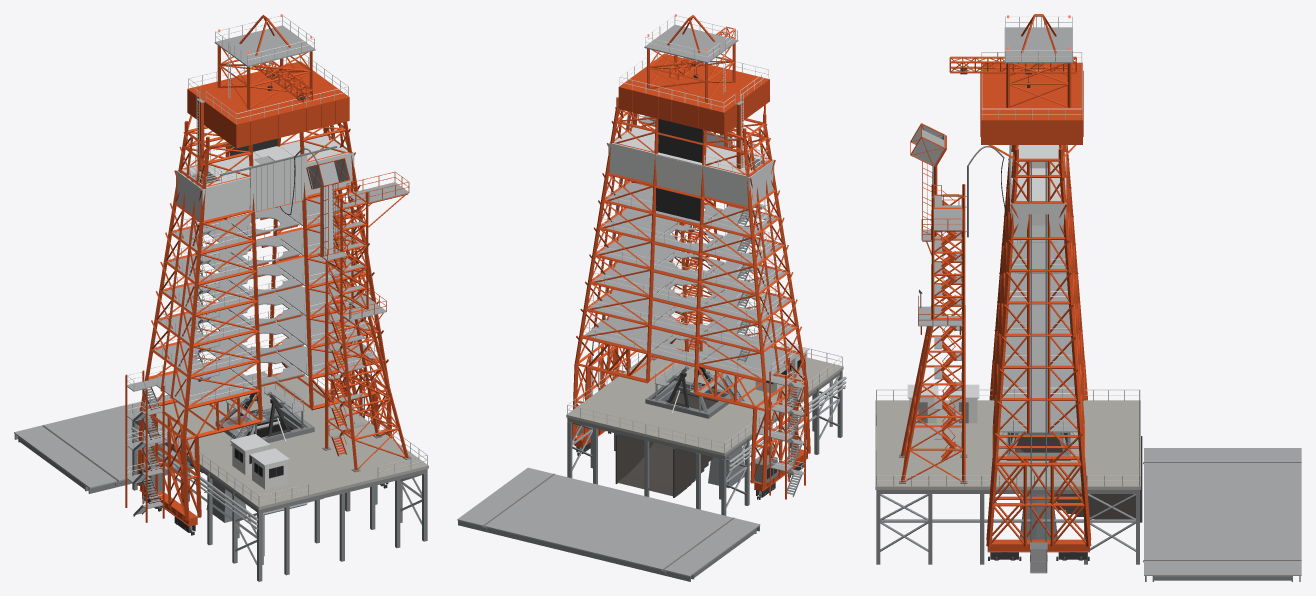
File: pad.lod1.glb
3 views of the same model, side by side, from view 1: azimuth 30°, elevation 25°; view 2: azimuth 150°, elevation 25°; view 3: azimuth 270°, elevation 25° (orthographic). The views are drawn at different scales.
Visible parts, largest first — view 1: ServiceStructure_Tower_Orange, ServiceStructure_Tower_Deck, LaunchStand_Concrete, ServiceStructure_Tower_OrangeHead, EgressTower_Orange, TransferTable_Deck, LaunchStand_GreyFrame, ServiceStructure_Tower_WhiteRails, ServiceStructure_Tower_AluminiumWhiteroom, ServiceStructure_Tower_GreyStair, EgressTower_OrangeStair, EgressTower_DeckPlatforms (+15 smaller); view 2: ServiceStructure_Tower_Orange, ServiceStructure_Tower_Deck, TransferTable_Deck, LaunchStand_Concrete, ServiceStructure_Tower_OrangeHead, ServiceStructure_Tower_WhiteRails, ServiceStructure_Tower_AluminiumWhiteroom, LaunchStand_GreyFrame, ServiceStructure_Tower_BlackScreen, FlameDeflector_ScorchedWalls, FlameDeflector_Scorched, ServiceStructure_Tower_GreyStair (+10 smaller); view 3: ServiceStructure_Tower_Orange, TransferTable_Deck, LaunchStand_Concrete, ServiceStructure_Tower_Deck, ServiceStructure_Tower_OrangeHead, EgressTower_Orange, LaunchStand_GreyFrame, ServiceStructure_Tower_AluminiumWhiteroom, FlameDeflector_ScorchedWalls, ServiceStructure_Tower_WhiteRails, EgressTower_OrangeStair, EgressTower_DeckPlatforms (+13 smaller).
Boxes of the visible parts, bbox=[...] form: ServiceStructure_Tower_Orange: bbox=[125, 15, 392, 522]; ServiceStructure_Tower_Deck: bbox=[126, 25, 378, 508]; LaunchStand_Concrete: bbox=[137, 375, 428, 509]; ServiceStructure_Tower_OrangeHead: bbox=[187, 61, 349, 148]; EgressTower_Orange: bbox=[317, 181, 408, 470]; TransferTable_Deck: bbox=[14, 372, 267, 488]; LaunchStand_GreyFrame: bbox=[132, 420, 427, 581]; ServiceStructure_Tower_WhiteRails: bbox=[148, 15, 377, 402]; ServiceStructure_Tower_AluminiumWhiteroom: bbox=[176, 135, 354, 220]; ServiceStructure_Tower_GreyStair: bbox=[133, 168, 215, 516]; EgressTower_OrangeStair: bbox=[331, 194, 354, 456]; EgressTower_DeckPlatforms: bbox=[322, 182, 409, 320]; ServiceStructure_Tower_Orange: bbox=[572, 15, 810, 499]; ServiceStructure_Tower_Deck: bbox=[584, 24, 804, 475]; TransferTable_Deck: bbox=[457, 467, 760, 576]; LaunchStand_Concrete: bbox=[566, 339, 843, 456]; ServiceStructure_Tower_OrangeHead: bbox=[618, 53, 769, 134]; ServiceStructure_Tower_WhiteRails: bbox=[583, 15, 799, 375]; ServiceStructure_Tower_AluminiumWhiteroom: bbox=[608, 127, 774, 206]; LaunchStand_GreyFrame: bbox=[567, 370, 842, 515]; ServiceStructure_Tower_BlackScreen: bbox=[656, 119, 702, 221]; FlameDeflector_ScorchedWalls: bbox=[615, 391, 717, 497]; FlameDeflector_Scorched: bbox=[617, 392, 716, 496]; ServiceStructure_Tower_GreyStair: bbox=[737, 163, 801, 496]; ServiceStructure_Tower_Orange: bbox=[949, 14, 1091, 546]; TransferTable_Deck: bbox=[1144, 448, 1301, 575]; LaunchStand_Concrete: bbox=[875, 400, 1140, 489]; ServiceStructure_Tower_Deck: bbox=[1000, 27, 1077, 432]; ServiceStructure_Tower_OrangeHead: bbox=[981, 62, 1082, 144]; EgressTower_Orange: bbox=[900, 184, 965, 482]; LaunchStand_GreyFrame: bbox=[876, 490, 1139, 564]; ServiceStructure_Tower_AluminiumWhiteroom: bbox=[1011, 145, 1066, 236]; FlameDeflector_ScorchedWalls: bbox=[1015, 436, 1142, 522]; ServiceStructure_Tower_WhiteRails: bbox=[981, 16, 1082, 430]; EgressTower_OrangeStair: bbox=[941, 190, 956, 460]; EgressTower_DeckPlatforms: bbox=[918, 196, 962, 326].
Size of the model in its own units: 26.82 by 50.13 by 38.15.
